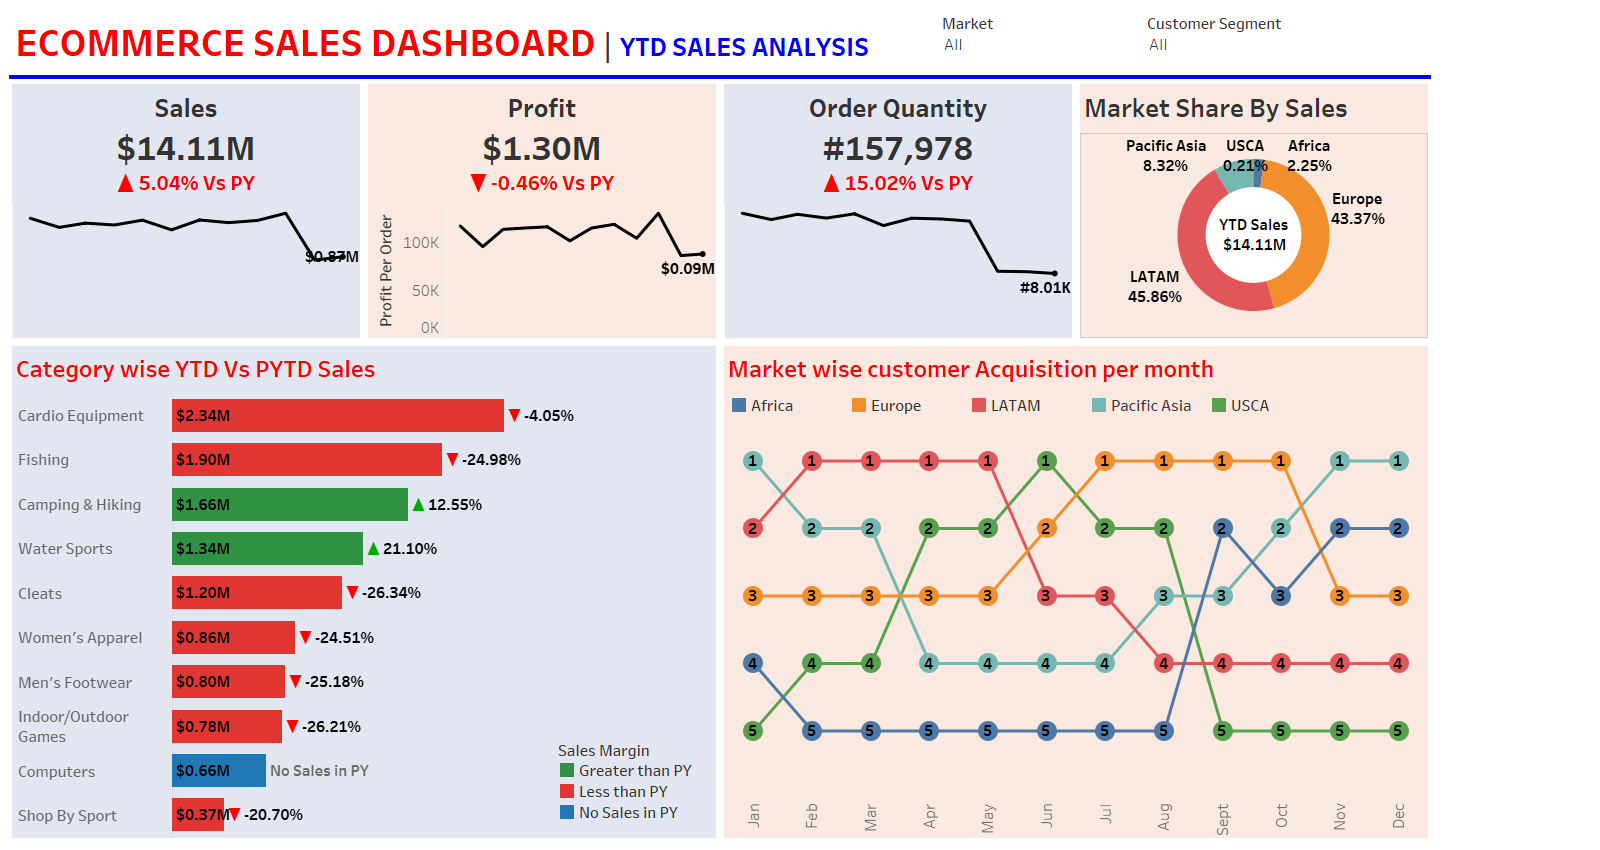

This screenshot's page, from the dashboard's own definition file:
{"tool":"tableau","page":{"name":"Dashboard 1","canvas":[1600,850],"ordinal":0},"visuals":[{"type":"title","box":[8,8,1424,66]},{"type":"filter","title":"Category wise YTD Vs PYTD Sales","param":"[federated.0i0120103bdalz1e7zn87095zpt2].[none:Market:nk]","box":[942,12,168,54]},{"type":"filter","title":"Category wise YTD Vs PYTD Sales","param":"[federated.0i0120103bdalz1e7zn87095zpt2].[none:Customer Segment:nk]","box":[1147,12,168,64]},{"type":"blank","box":[8,74,1424,6]},{"type":"worksheet","title":"Sales KPI","mark":"Automatic","rows":["Sales"],"cols":["Order Date"],"box":[8,80,356,262]},{"type":"worksheet","title":"Profit KPI","mark":"Automatic","rows":["Profit Per Order"],"cols":["Order Date"],"box":[364,80,356,262]},{"type":"worksheet","title":"Order Quantity","mark":"Automatic","rows":["Order Quantity"],"cols":["Order Date"],"box":[720,80,356,262]},{"type":"worksheet","title":"Market Share By Sales","mark":"Pie","cols":["Calculation_1029916990699851787","Calculation_1029916990699868173"],"box":[1076,80,356,262]},{"type":"worksheet","title":"Category wise YTD Vs PYTD Sales","mark":"Bar","rows":["Category Name"],"cols":["Calculation_1029916990701969422","Calculation_1029916990701969422"],"box":[8,342,712,500]},{"type":"worksheet","title":"Market wise customer Acquisition per month","mark":"Automatic","cols":["Order Date"],"box":[720,342,712,500]},{"type":"legend","title":"Market wise customer Acquisition per month","param":"[federated.0i0120103bdalz1e7zn87095zpt2].[none:Market:nk]","box":[729,395,665,37]},{"type":"legend","title":"Category wise YTD Vs PYTD Sales","param":"[federated.0i0120103bdalz1e7zn87095zpt2].[usr:Calculation_1029916990732869649:nk","box":[557,738,140,85]}]}

Visuals, with their boxes in screenshot pixels (x1, y1, x2, y2), scaled from the page's 1600x850 canvas onto the 1600x850 screenshot:
title: 8 8 1432 74
"Category wise YTD Vs PYTD Sales" filter: 942 12 1110 66
"Category wise YTD Vs PYTD Sales" filter: 1147 12 1315 76
blank: 8 74 1432 80
"Sales KPI" worksheet: 8 80 364 342
"Profit KPI" worksheet: 364 80 720 342
"Order Quantity" worksheet: 720 80 1076 342
"Market Share By Sales" worksheet (Pie marks): 1076 80 1432 342
"Category wise YTD Vs PYTD Sales" worksheet (Bar marks): 8 342 720 842
"Market wise customer Acquisition per month" worksheet: 720 342 1432 842
"Market wise customer Acquisition per month" legend: 729 395 1394 432
"Category wise YTD Vs PYTD Sales" legend: 557 738 697 823
